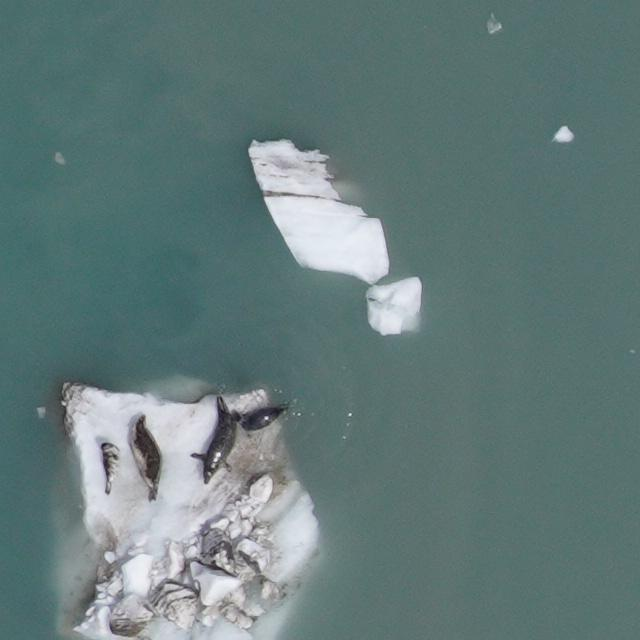seal: (185, 394, 245, 486), (125, 413, 174, 505), (238, 397, 286, 435), (98, 442, 120, 495)
